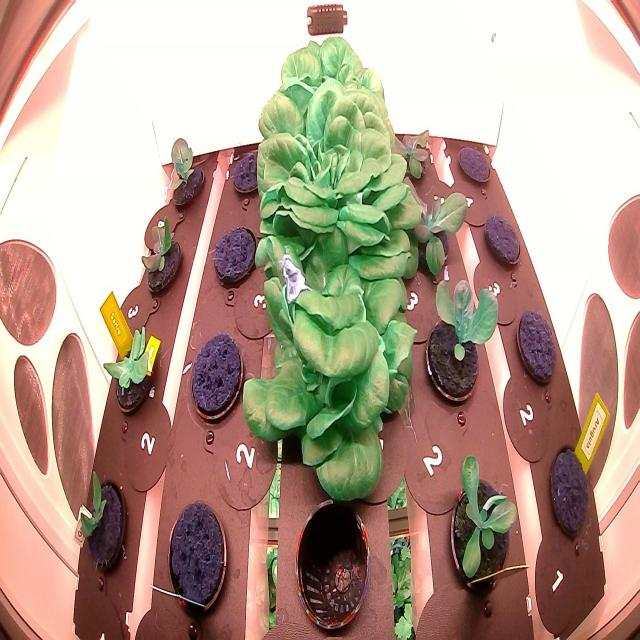Ready: (238, 245, 429, 519), (253, 76, 425, 302), (248, 20, 418, 208)
empty_pod: (288, 496, 382, 634)
pod: (166, 494, 233, 623), (187, 327, 246, 433), (542, 441, 594, 543), (212, 216, 264, 291), (515, 304, 560, 385), (483, 207, 523, 270), (232, 142, 270, 202), (457, 137, 494, 188)
young: (436, 435, 526, 609), (412, 263, 500, 424), (379, 170, 474, 290), (70, 456, 135, 592), (100, 319, 164, 421), (158, 123, 215, 222), (134, 201, 187, 307), (382, 108, 438, 191)
